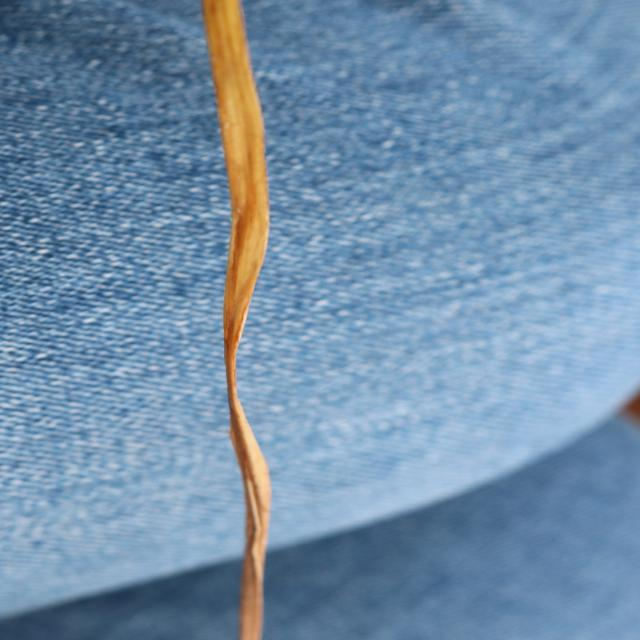Septoria: (200, 1, 274, 638)
